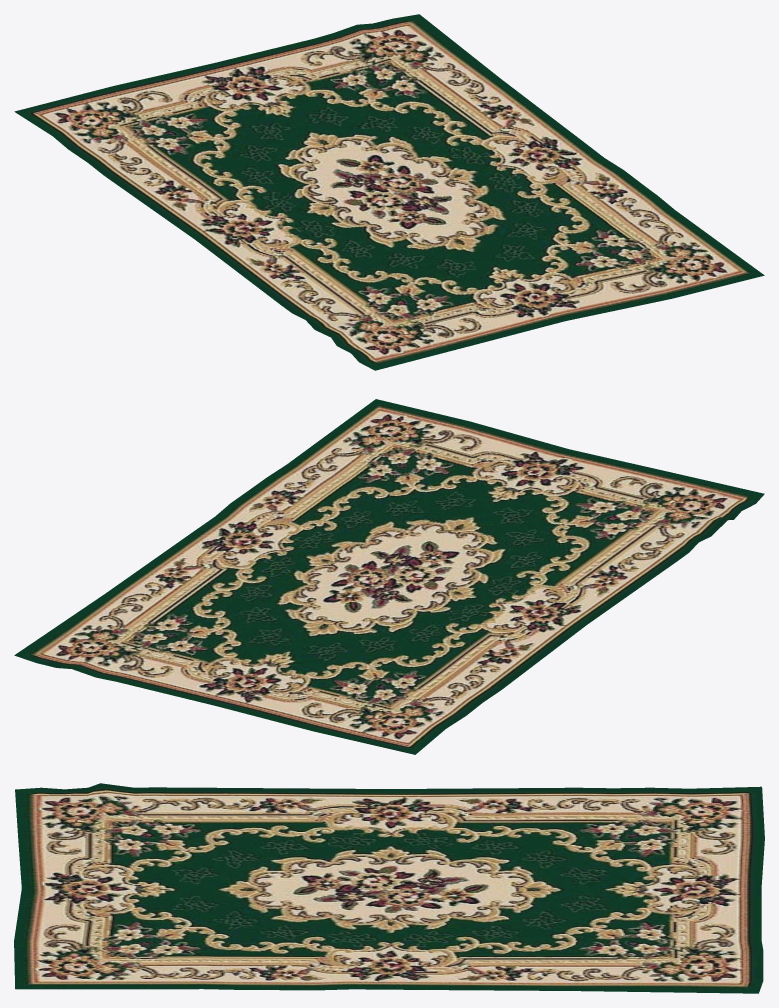
Rendered from carpet_01.glb.
The picture shows the model from 3 angles, top to bottom: view 1: azimuth 30°, elevation 25°; view 2: azimuth 150°, elevation 25°; view 3: azimuth 270°, elevation 25°; orthographic projection. The views are drawn at different scales.
Parts seen in each view (by area): view 1: Plane001_0; view 2: Plane001_0; view 3: Plane001_0.
Boxes of the visible parts, x1=… form: Plane001_0: x1=14, y1=14, x2=764, y2=370; Plane001_0: x1=14, y1=399, x2=764, y2=754; Plane001_0: x1=14, y1=783, x2=764, y2=993.
Size of the model in its own units: 1.99 by 0.0201 by 3.06.
1 material, 1 textured.
